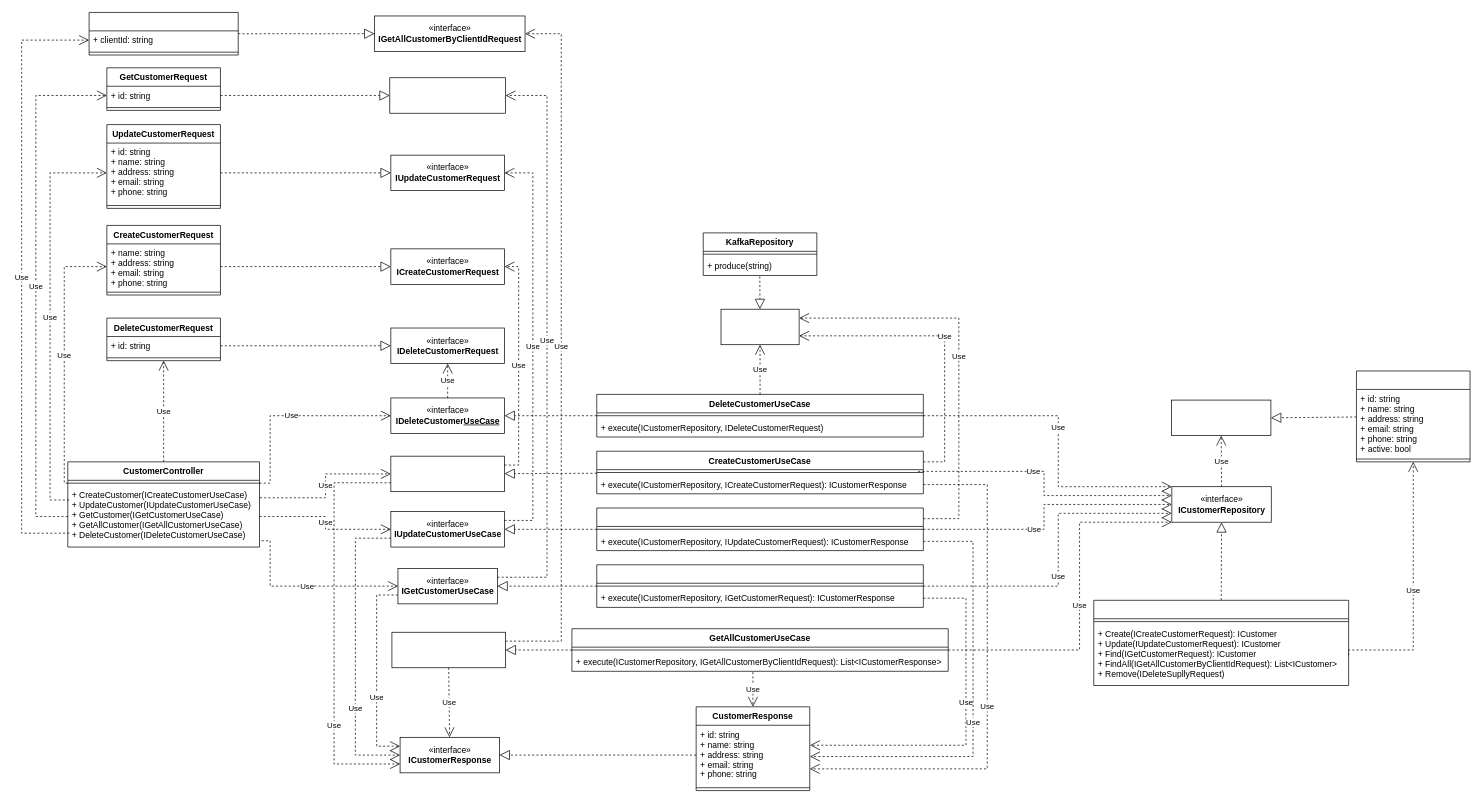
Some shapes in this 1482 by 803 pixel diagram are drawn without their labels. Here are the shapes that lost their labels. From the top down, the box of each, then its label:
(88, 12, 238, 55): GetAllCustomerByClientIdRequest
(389, 77, 506, 113): «interface» IGetCustomerRequest
(720, 308, 799, 345): «interface» IKafkaRepository
(1171, 399, 1271, 436): «interface» ICustomer
(1356, 370, 1470, 462): Customer
(390, 455, 504, 492): «interface» ICreateCustomerUseCase
(596, 507, 923, 551): UpdateCustomerUseCase
(596, 564, 923, 607): GetCustomerUseCase
(391, 632, 506, 668): «interface» IGetAllCustomerUseCase
(1093, 600, 1349, 686): CustomerRepository
